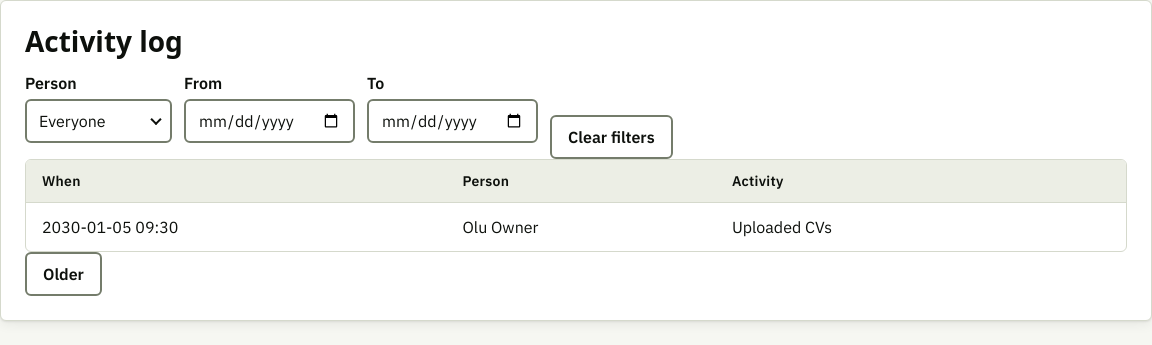
the activity log › loads older entries after the last one shown
Click the button "Older" at (63, 274), box [25,252,102,296]
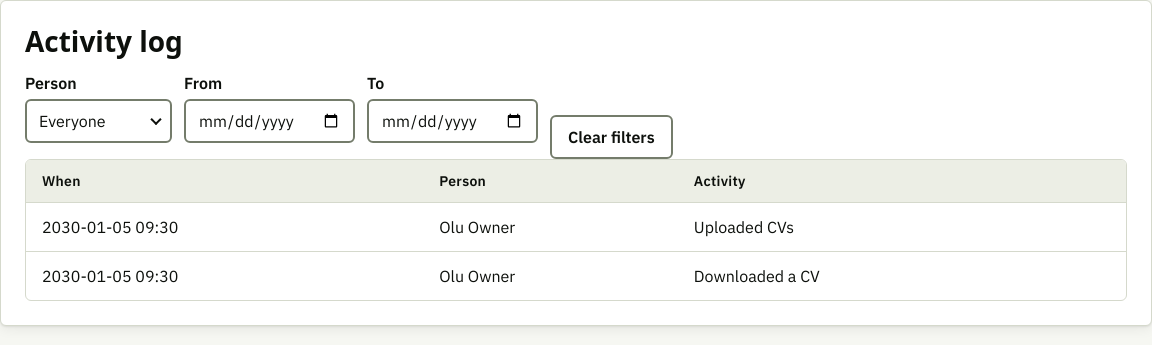
Check: the text "Downloaded a CV" is shown, box [678,251,1050,300]
Check: the button "Older" is gone
